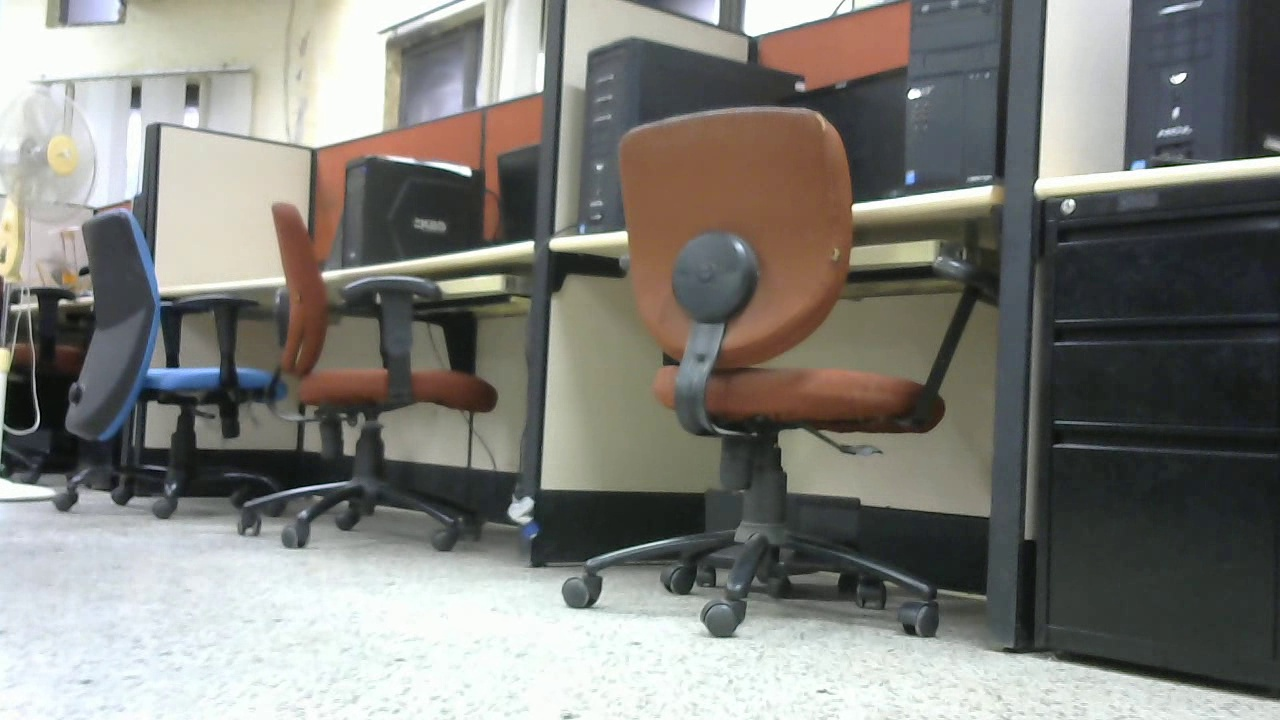chair: (560, 103, 993, 642), (229, 203, 501, 555), (49, 205, 280, 519), (1, 275, 87, 481)
